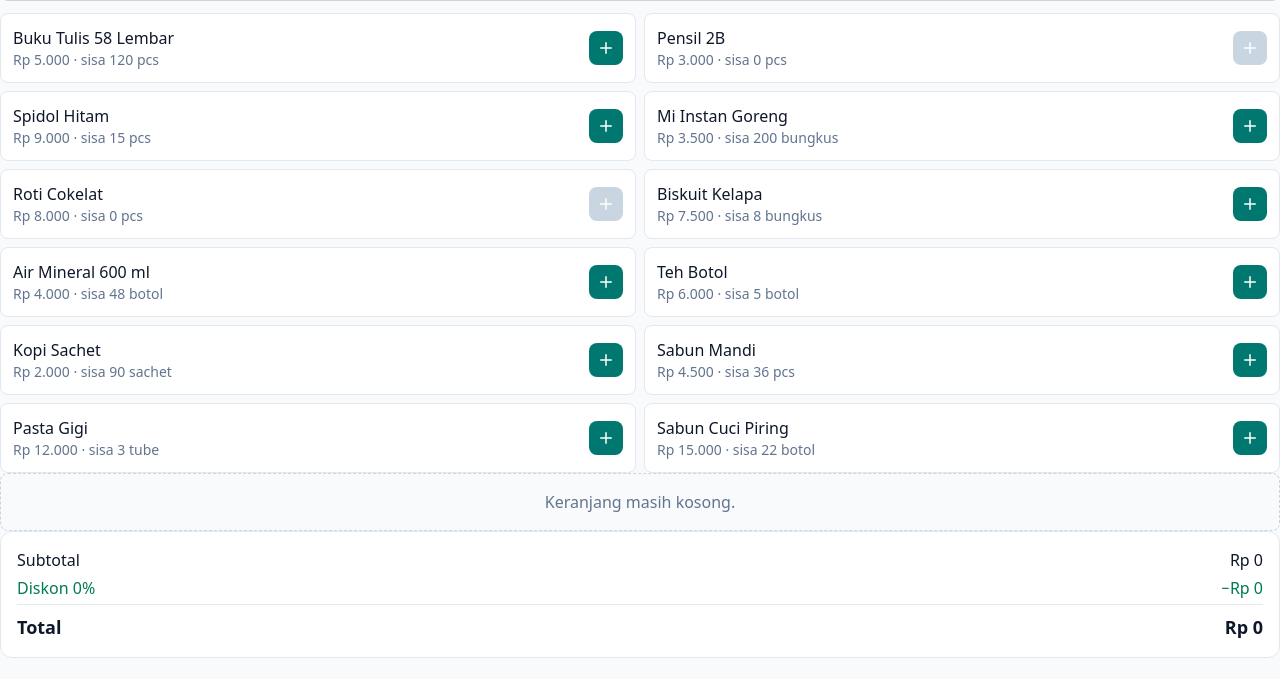
Test: Kasir: keranjang dan diskon › menambah barang memperbarui total dan info diskon berikutnya
This screenshot has width=1280, height=679.
Step 1. Click the button named "Tambah Sabun Cuci Piring ke keranjang" → [1250, 438], box [1233,421,1267,455]
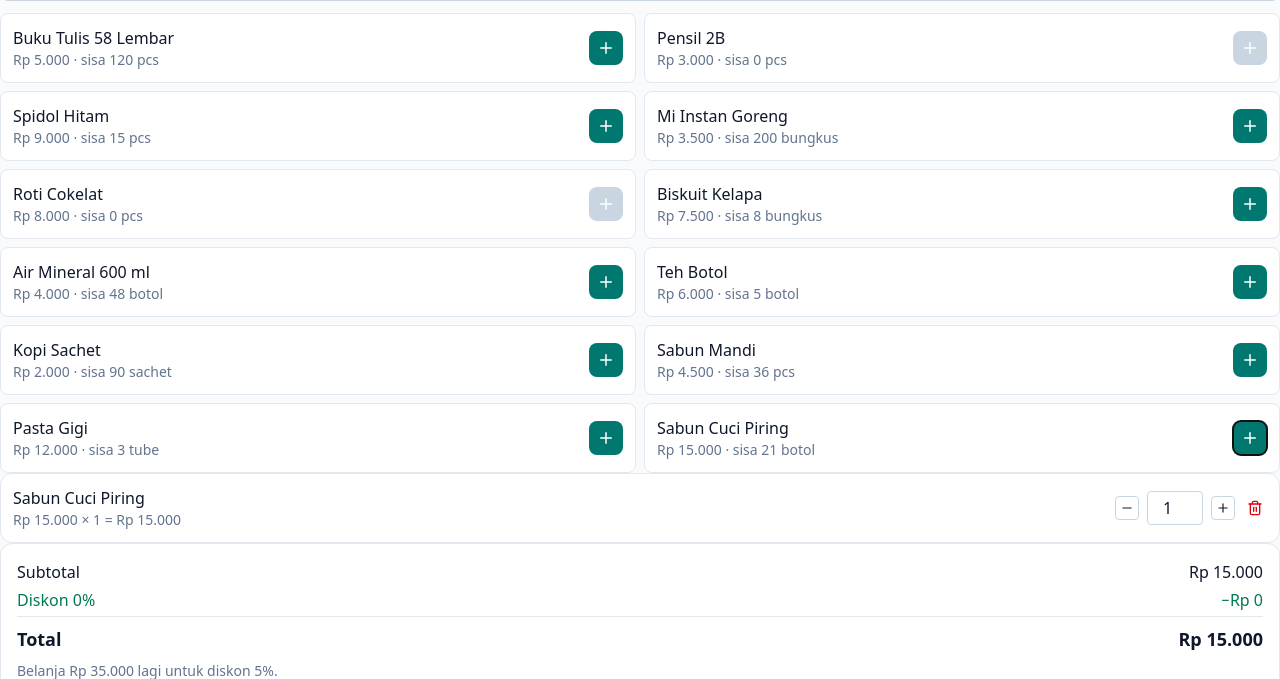
Step 2. Click the button named "Tambah Sabun Cuci Piring ke keranjang" → [1250, 438], box [1233,421,1267,455]
(page scrolled)
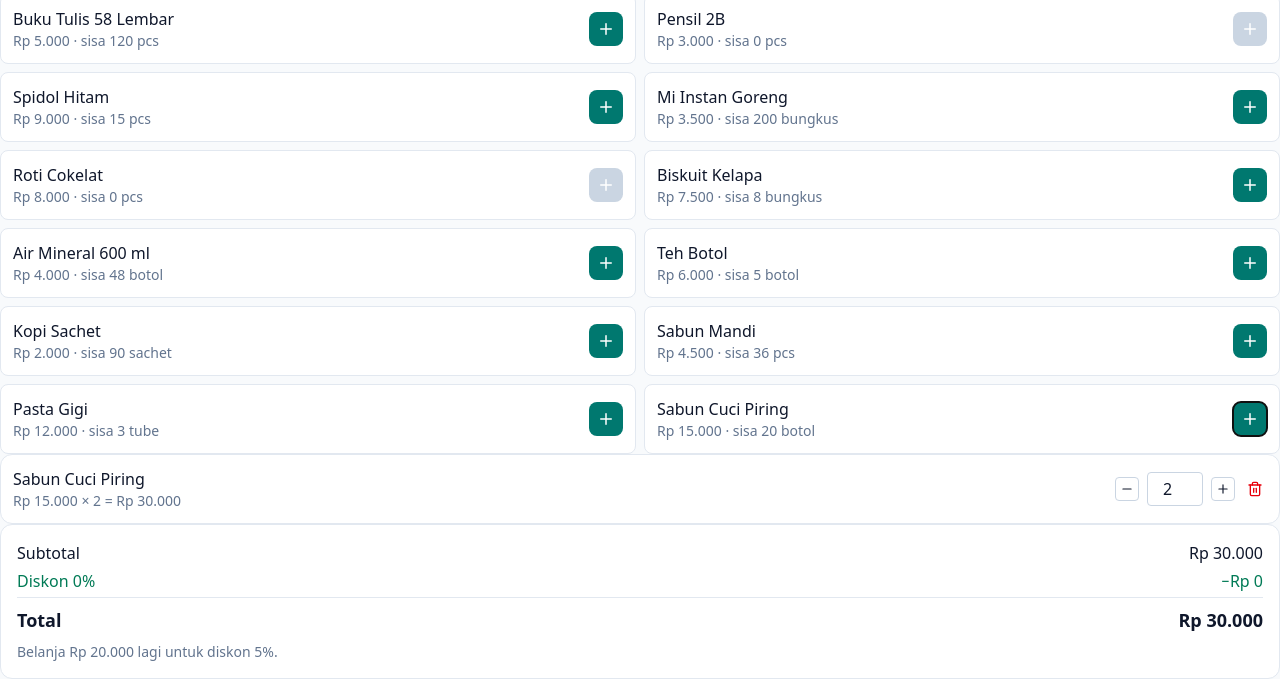
Now the 2nd text "Rp 30.000" is shown, box [1178,606,1263,634]
Now the text "Belanja Rp 20.000 lagi untuk diskon 5%." is shown, box [17,642,278,661]
